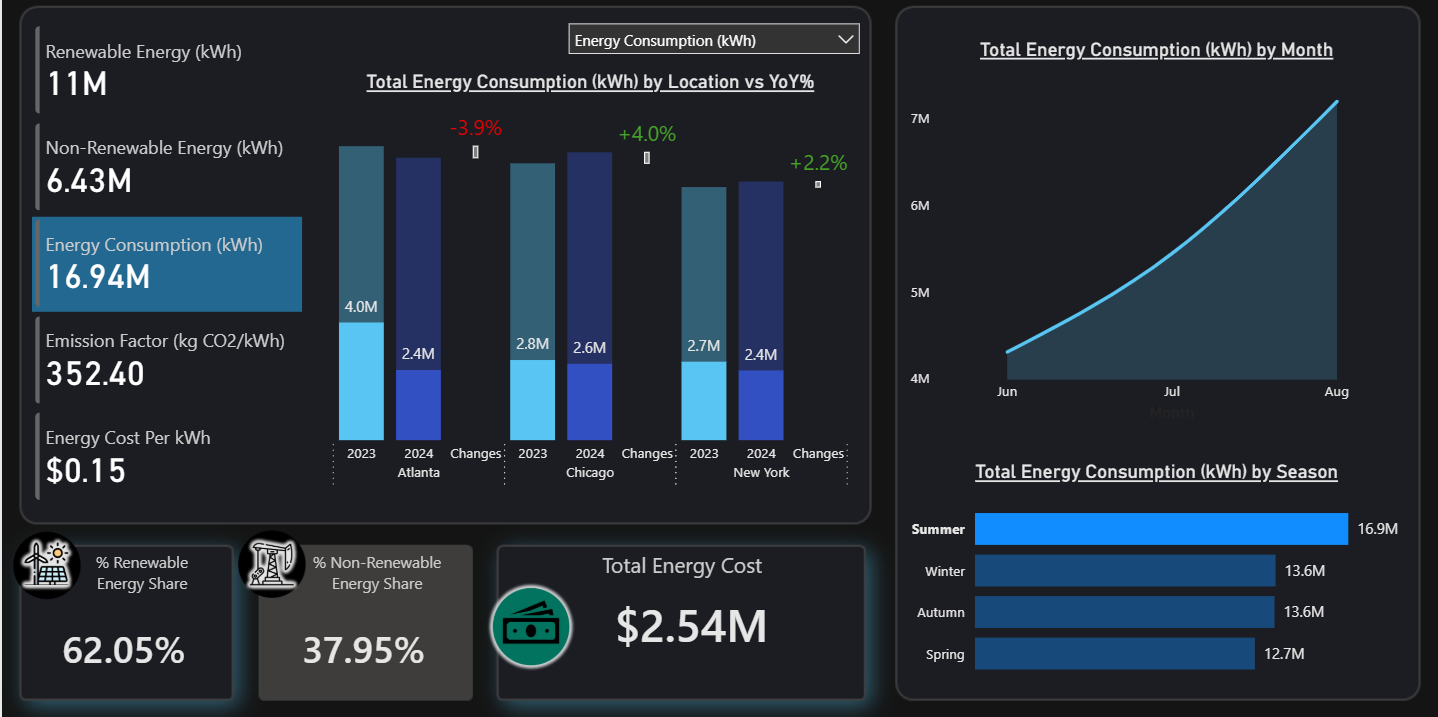

This screenshot's page, from the dashboard's own definition file:
{"tool":"powerbi","page":{"name":"Page 1","canvas":[1280,720],"ordinal":0},"visuals":[{"type":"shape","box":[26.9,97,240,85],"z":0},{"type":"shape","box":[27,184,240.5,84.7],"z":1000},{"type":"shape","box":[27,270.8,240.5,84.7],"z":2000},{"type":"shape","box":[27,357.5,240.5,84.7],"z":3000},{"type":"shape","box":[27,444.2,240.5,84.7],"z":4000},{"type":"cardVisual","fields":{"Data":["DAX Table.Renewable Energy (kwh)","DAX Table.Total Non-Renewable Energy (kwh)","DAX Table.Total Energy Consumption (kwh)","DAX Table.Emission Factor (kg CO2/kWh)","DAX Table.Energy Cost Per kWh"]},"box":[17.2,88.3,266.3,449.1],"z":5000},{"type":"clusteredColumnChart","fields":{"Category":["Data.Location","Year Table.Year"],"Y":["Year Table.YoY Change"]},"box":[274.8,139.9,498.2,380.4],"z":6000},{"type":"slicer","fields":{"Values":["Switchable Measures.Switchable Measures"]},"box":[494.5,88.3,279.8,46.6],"z":7000},{"type":"cardVisual","fields":{"Data":["DAX Table.% Renewable Energy Share"]},"box":[27.3,612.7,164.5,82.7],"z":8000},{"type":"textbox","box":[57.7,563.2,133.7,49.1],"z":9000},{"type":"textbox","box":[267.5,563.2,133.7,49.1],"z":10000},{"type":"textbox","box":[484.7,563.2,242.9,45.4],"z":11000},{"type":"cardVisual","fields":{"Data":["DAX Table.Energy Cost (USD)"]},"box":[492,591.4,244.2,82.2],"z":12000},{"type":"cardVisual","fields":{"Data":["DAX Table.% Non-Renewable Energy Share"]},"box":[240.9,612.7,164.5,82.7],"z":13000},{"type":"image","box":[10,550.9,60,60],"z":14000},{"type":"image","box":[210,550,60,60],"z":15000},{"type":"image","box":[430.9,595,80.9,80],"z":16000},{"type":"lineChart","fields":{"Category":["Calendar.Month"],"Y":["Switchable Measures.Group Measures"]},"box":[803.7,111.7,449.1,347.2],"z":17000},{"type":"barChart","fields":{"Category":["Calendar.Season"],"Y":["Switchable Measures.Group Measures"]},"box":[803.7,487.1,449.1,207.4],"z":18000},{"type":"textbox","box":[17.2,12.3,474.8,66.3],"z":19000},{"type":"card","fields":{"Values":["DAX Table.Energy Cost Summary"]},"box":[575.5,12.3,677.3,62.6],"z":21000}]}

Visuals, with their boxes on the page's 1280x720 design canvas (x1, y1, x2, y2). These are canvas units, not pixel positions in the 1438x717 screenshot, which may show the page scaled, cropped or inside an application window:
shape: select_region(27, 97, 267, 182)
shape: select_region(27, 184, 268, 269)
shape: select_region(27, 271, 268, 356)
shape: select_region(27, 358, 268, 442)
shape: select_region(27, 444, 268, 529)
cardVisual - DAX Table.Renewable Energy (kwh) x DAX Table.Total Non-Renewable Energy (kwh): select_region(17, 88, 284, 537)
clusteredColumnChart - Data.Location x Year Table.Year: select_region(275, 140, 773, 520)
slicer - Switchable Measures.Switchable Measures: select_region(494, 88, 774, 135)
cardVisual - DAX Table.% Renewable Energy Share: select_region(27, 613, 192, 695)
textbox: select_region(58, 563, 191, 612)
textbox: select_region(268, 563, 401, 612)
textbox: select_region(485, 563, 728, 609)
cardVisual - DAX Table.Energy Cost (USD): select_region(492, 591, 736, 674)
cardVisual - DAX Table.% Non-Renewable Energy Share: select_region(241, 613, 405, 695)
image: select_region(10, 551, 70, 611)
image: select_region(210, 550, 270, 610)
image: select_region(431, 595, 512, 675)
lineChart - Calendar.Month x Switchable Measures.Group Measures: select_region(804, 112, 1253, 459)
barChart - Calendar.Season x Switchable Measures.Group Measures: select_region(804, 487, 1253, 694)
textbox: select_region(17, 12, 492, 79)
card - DAX Table.Energy Cost Summary: select_region(576, 12, 1253, 75)
